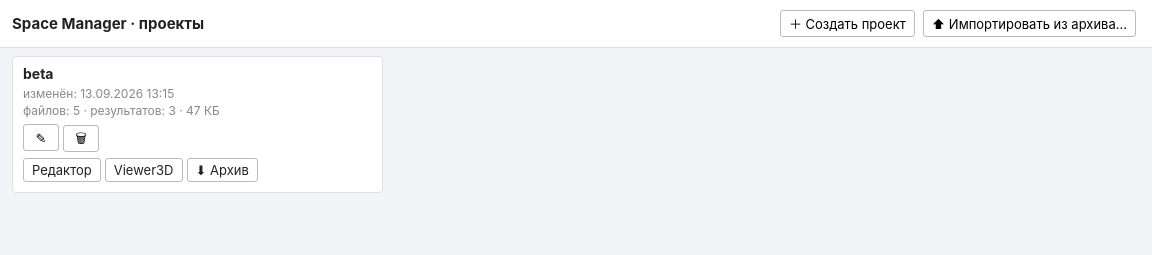
Scenario: создание проекта › дубликат display-name → разрешён; slug получает суффикс -2
Check: the heading "beta" is shown, box x1=23 y1=65 x2=54 y2=82
Click the button "＋ Создать проект" at [847, 24], box x1=780 y1=10 x2=915 y2=37
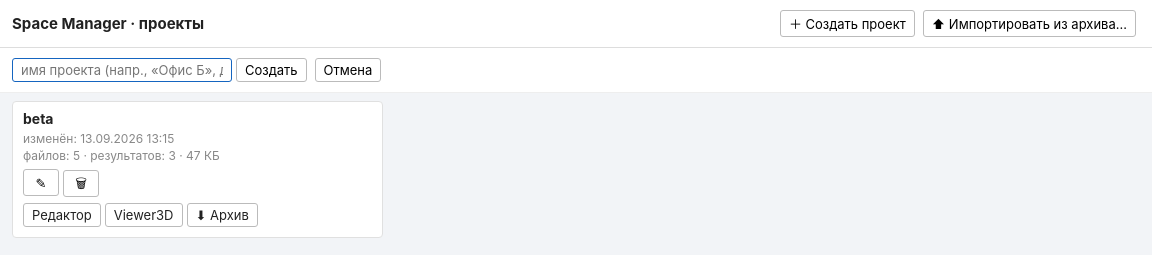
Type "beta" into the field with placeholder "имя проекта (напр., «Офис Б», до 64 символов)" at [122, 70], box x1=12 y1=58 x2=232 y2=82
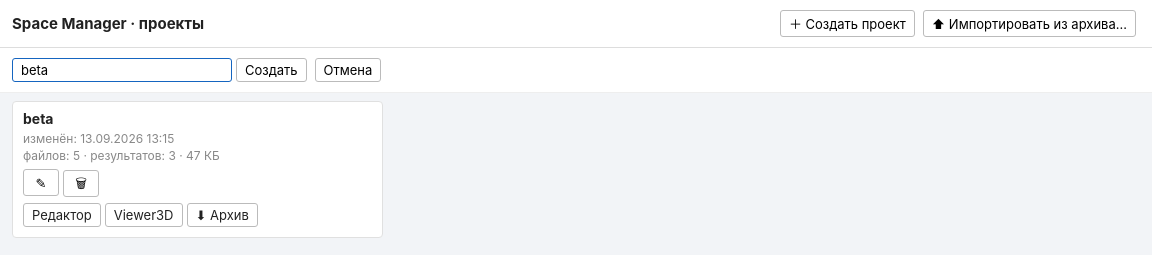
Click the button "Создать" at [271, 70], box x1=236 y1=58 x2=306 y2=82
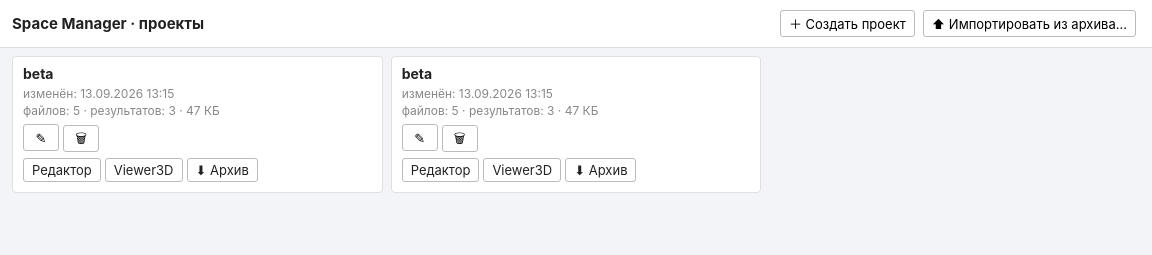
Check: the number of headings "beta" is 2, box x1=23 y1=65 x2=54 y2=82; x1=402 y1=65 x2=432 y2=82
